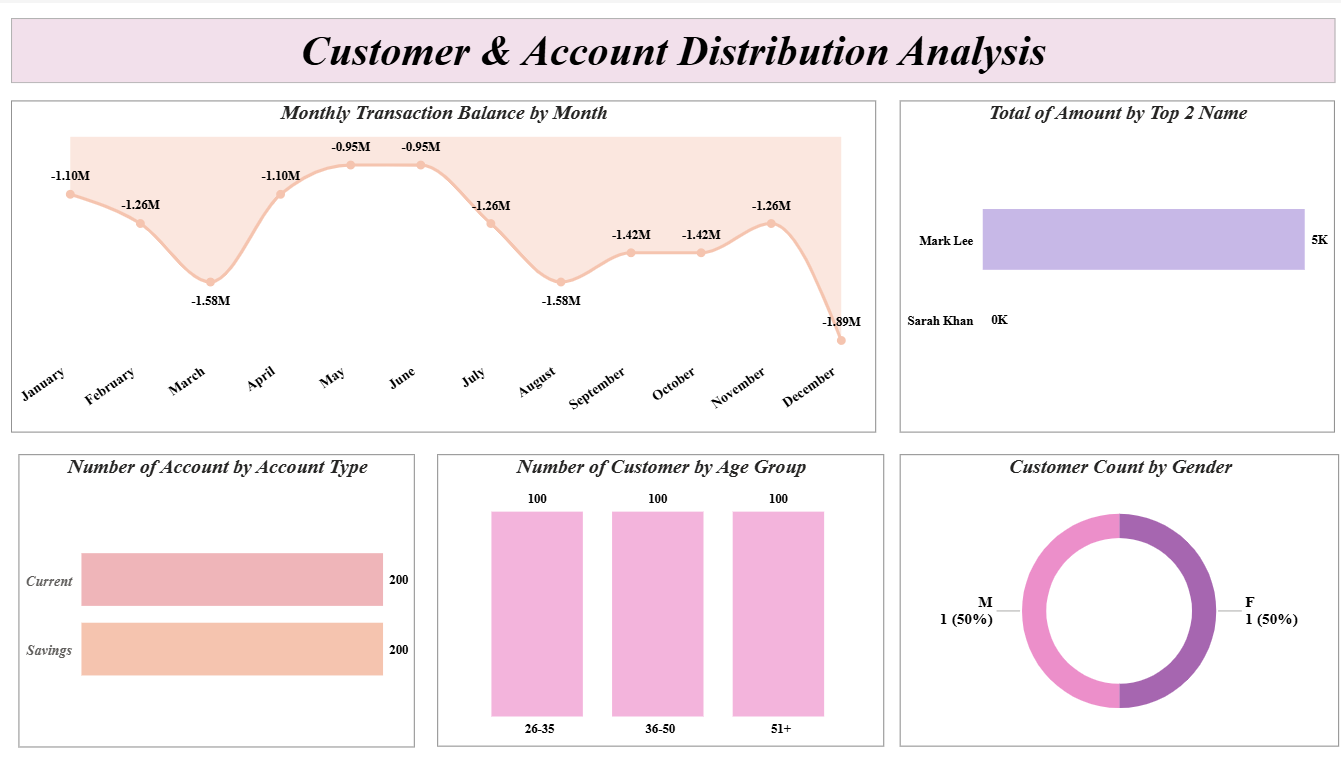

Layout of this report page (visuals, bound fields, positions):
{"tool":"powerbi","page":{"name":"Customer & Account Distribution Analysis","canvas":[1280,720],"ordinal":1},"visuals":[{"type":"donutChart","title":"Customer Count by Gender","fields":{"Y":["Measures Table.Customer Count by Gender"],"Category":["CombinedBankingDataset.Gender"]},"box":[855.8,426.7,416.3,276.7],"z":0},{"type":"columnChart","title":"Number of Customer by Age Group","fields":{"Category":["CombinedBankingDataset.Customer Age Group"],"Y":["CountNonNull(CombinedBankingDataset.CustomerID)"]},"box":[417.4,426.7,423.3,276.7],"z":1000},{"type":"clusteredBarChart","title":"Number of Account by Account Type","fields":{"Category":["CombinedBankingDataset.AccountType"],"Y":["Measures Table.Account Count by Type"]},"box":[20.9,426.7,375.6,277.9],"z":2000},{"type":"barChart","title":"Total of Amount by Top 2 Name","fields":{"Y":["Sum(CombinedBankingDataset.Balance)"],"Category":["CombinedBankingDataset.Name"]},"box":[856.3,91.9,411.7,314.2],"z":3000},{"type":"areaChart","fields":{"Category":["CombinedBankingDataset.TransactionDate.Variation.Date Hierarchy.Month"],"Y":["Measures Table.Monthly Transaction Balance"]},"box":[13.7,91.9,819.2,314.2],"z":4000},{"type":"shape","box":[13.7,13.7,1254.2,61.7],"z":5000}]}

Visuals, with their boxes in screenshot pixels (x1, y1, x2, y2), scaled from the page's 1280x720 canvas onto the 1341x765 screenshot:
"Customer Count by Gender" donutChart: {"x1": 897, "y1": 453, "x2": 1333, "y2": 747}
"Number of Customer by Age Group" columnChart: {"x1": 437, "y1": 453, "x2": 881, "y2": 747}
"Number of Account by Account Type" clusteredBarChart: {"x1": 22, "y1": 453, "x2": 415, "y2": 749}
"Total of Amount by Top 2 Name" barChart: {"x1": 897, "y1": 98, "x2": 1328, "y2": 431}
areaChart - CombinedBankingDataset.TransactionDate.Variation.Date Hierarchy.Month x Measures Table.Monthly Transaction Balance: {"x1": 14, "y1": 98, "x2": 873, "y2": 431}
shape: {"x1": 14, "y1": 15, "x2": 1328, "y2": 80}
